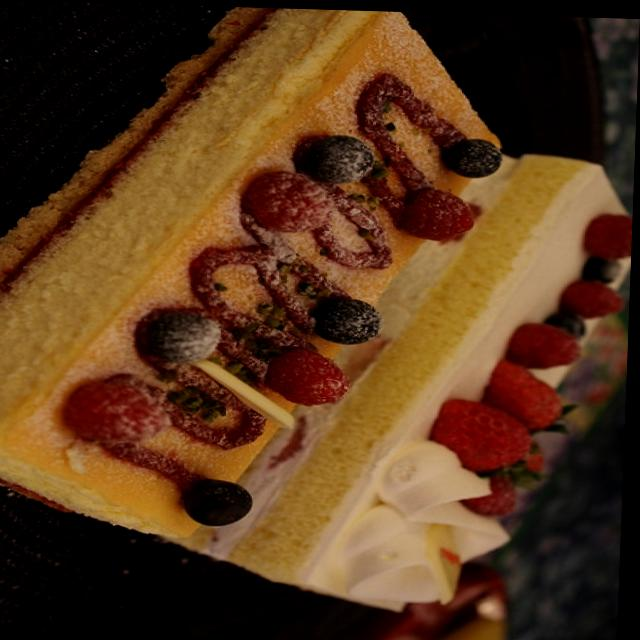蛋糕甜品: (0, 6, 640, 613)
